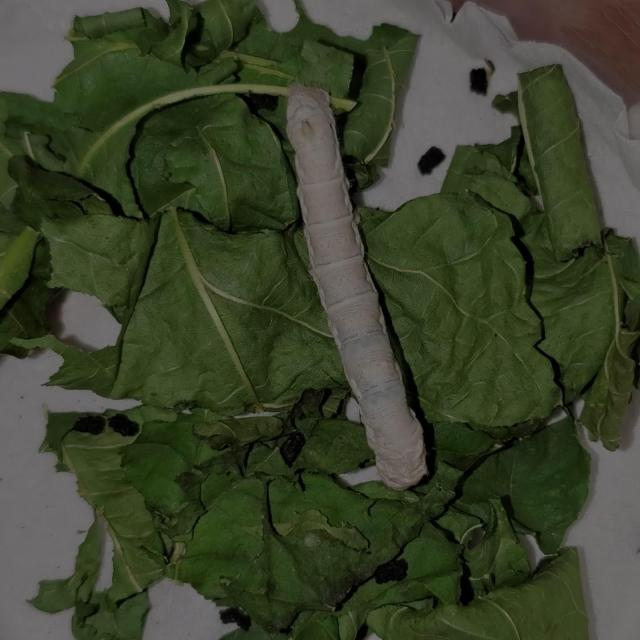Healthy: (224, 52, 475, 514)
